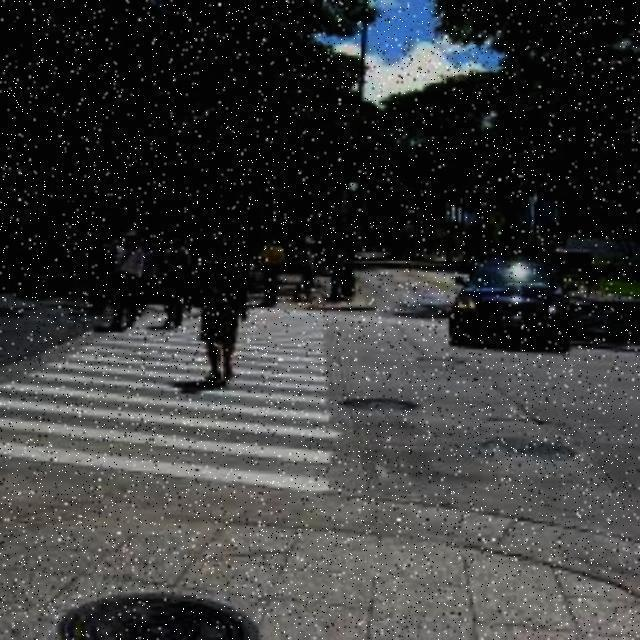crosswalk: (0, 305, 336, 490)
